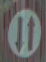Two way: (4, 7, 45, 59)
